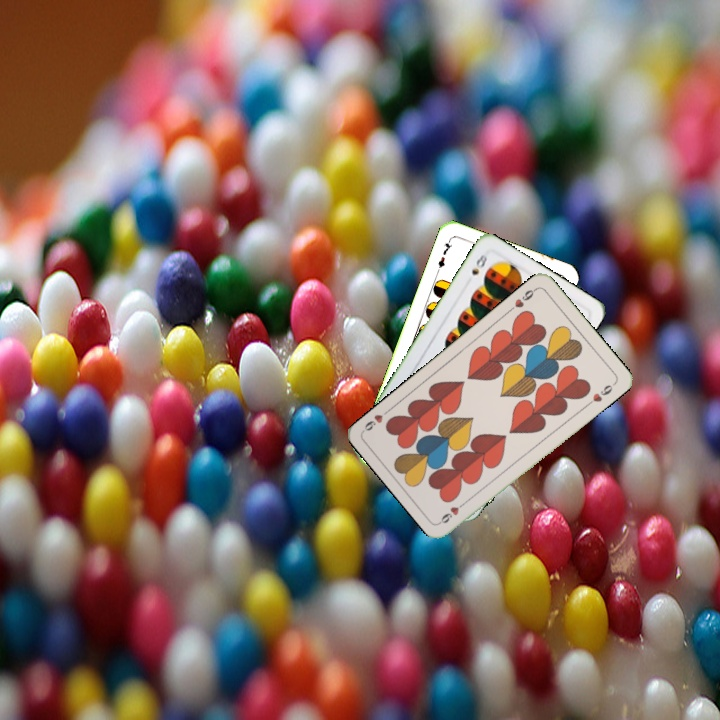E7: (433, 235, 455, 274)
H9: (505, 284, 540, 314), (436, 496, 471, 526)
S8: (467, 250, 490, 278)
